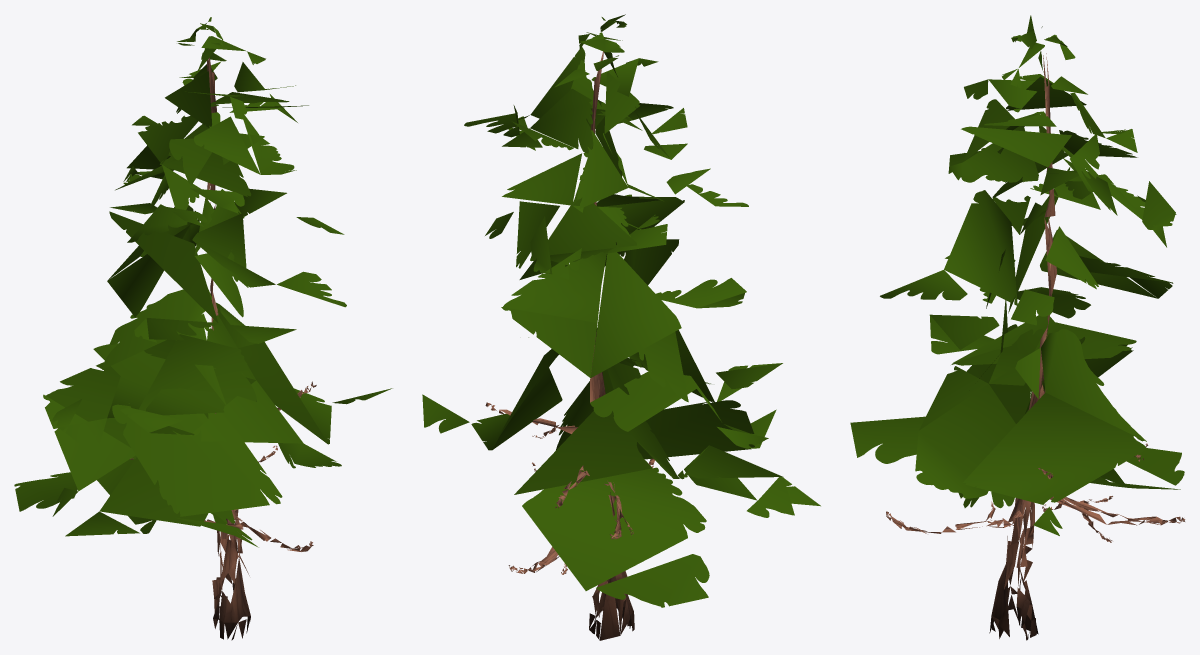
The model's file is Pine_2_lod1.glb.
The picture shows the model from 3 angles, left to right: view 1: azimuth 30°, elevation 25°; view 2: azimuth 150°, elevation 25°; view 3: azimuth 270°, elevation 25°; orthographic projection. The views are drawn at different scales.
Visible parts, largest first — view 1: Pine_2; view 2: Pine_2; view 3: Pine_2.
Boxes of the visible parts, box(x1,y1,x2,y2) form: Pine_2: box(14, 17, 392, 640); Pine_2: box(422, 14, 820, 640); Pine_2: box(850, 15, 1185, 640).
Size of the model in its own units: 4.54 by 7.39 by 3.68.
2 materials, 2 textured.
